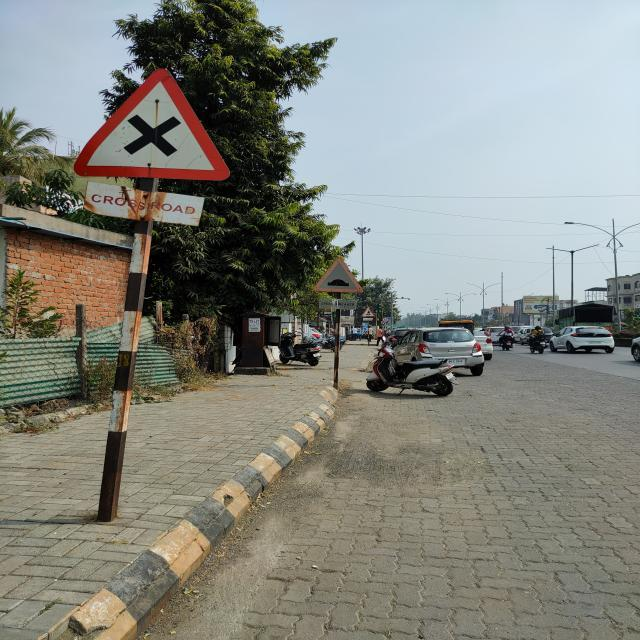cross road: (74, 67, 237, 186)
